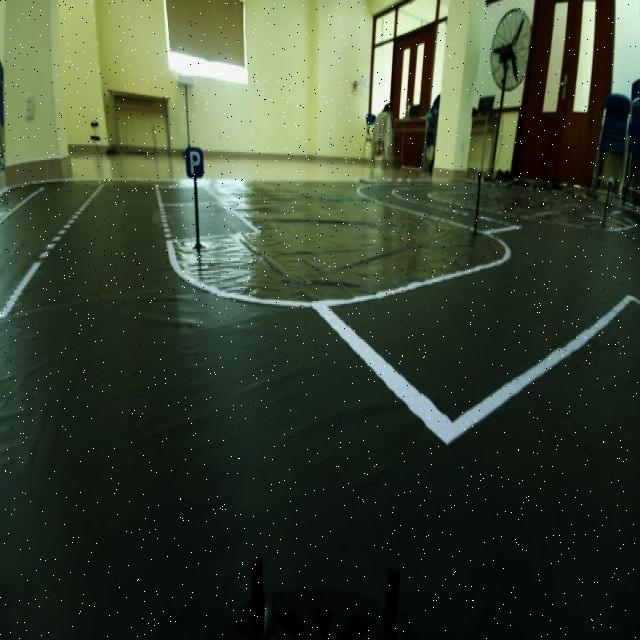parking: (179, 132, 210, 191)
